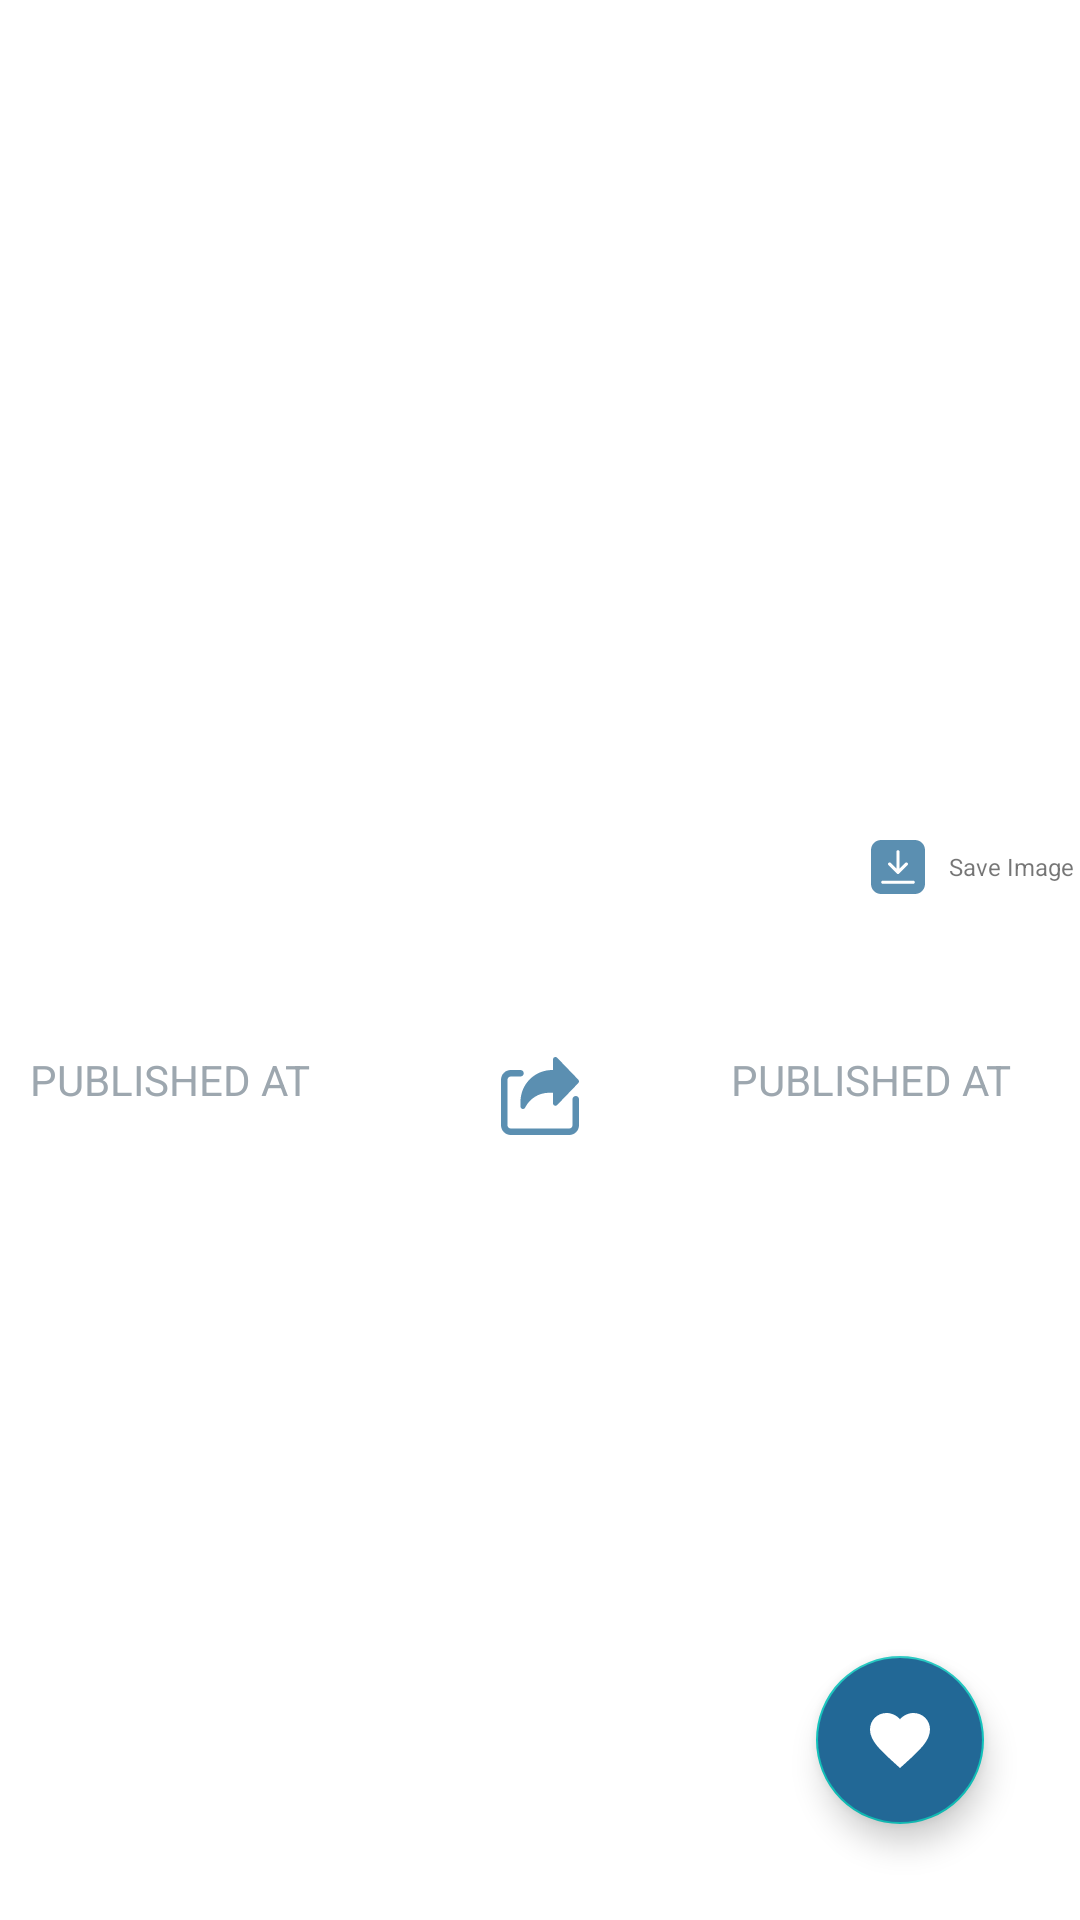

Point at icon controls on the screen. Image size 1080px×1920px, points as (x,y).
favorite: (900,1740)
share: (540,1096)
